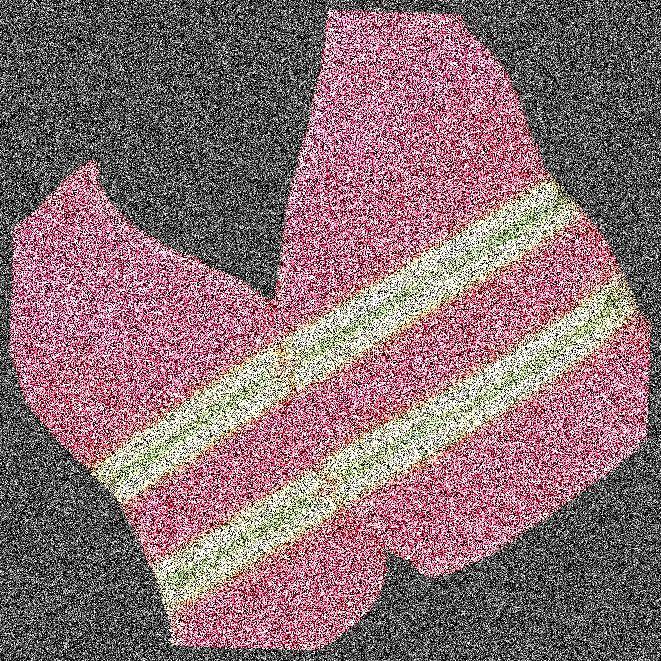Colete: (405, 0, 615, 660)
